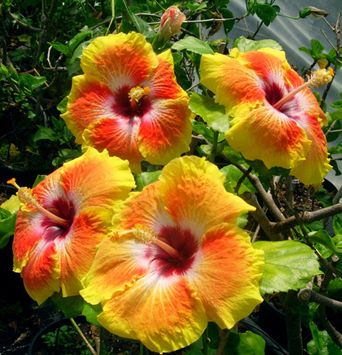Hibiscus: (81, 158, 260, 347), (7, 157, 131, 304), (205, 43, 334, 179), (60, 32, 195, 155)
